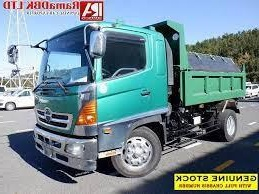truck: (32, 19, 246, 177)
